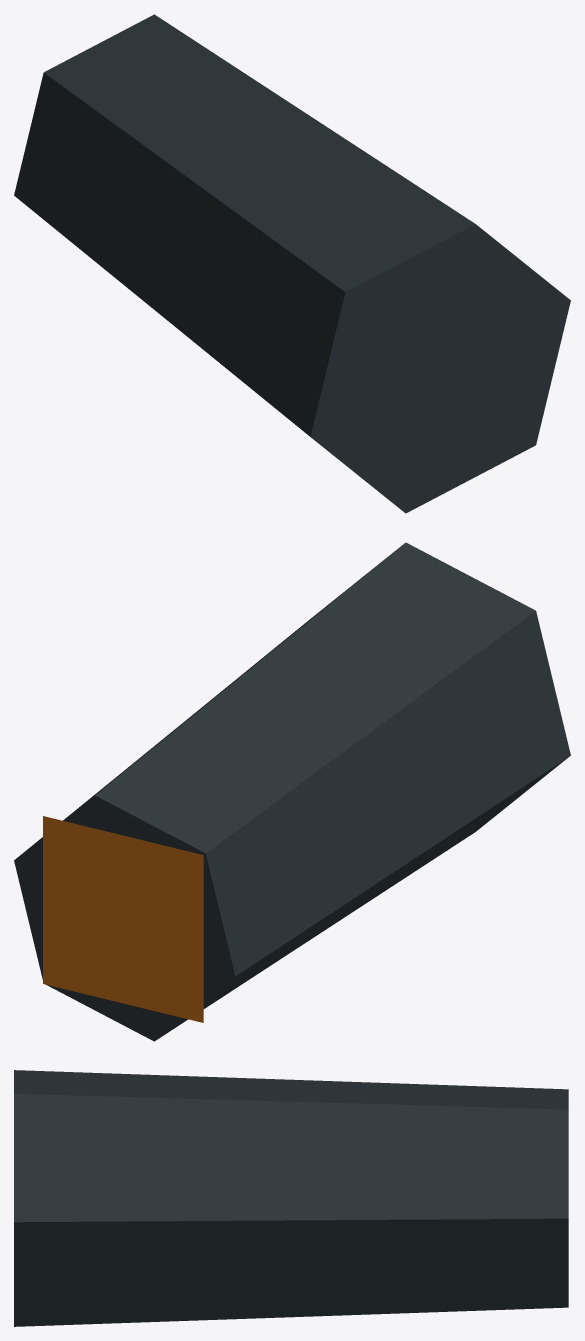
3 views of the same model, one above another, from view 1: azimuth 30°, elevation 25°; view 2: azimuth 150°, elevation 25°; view 3: azimuth 270°, elevation 25° (orthographic). The views are drawn at different scales.
Visible parts, largest first — view 1: mount; view 2: mount; view 3: mount.
Boxes of the visible parts, bbox=[...] form: mount: bbox=[14, 14, 570, 513]; mount: bbox=[14, 542, 570, 1041]; mount: bbox=[14, 1070, 568, 1326].
Size of the model in its own units: 3.28 by 3.28 by 6.93.
